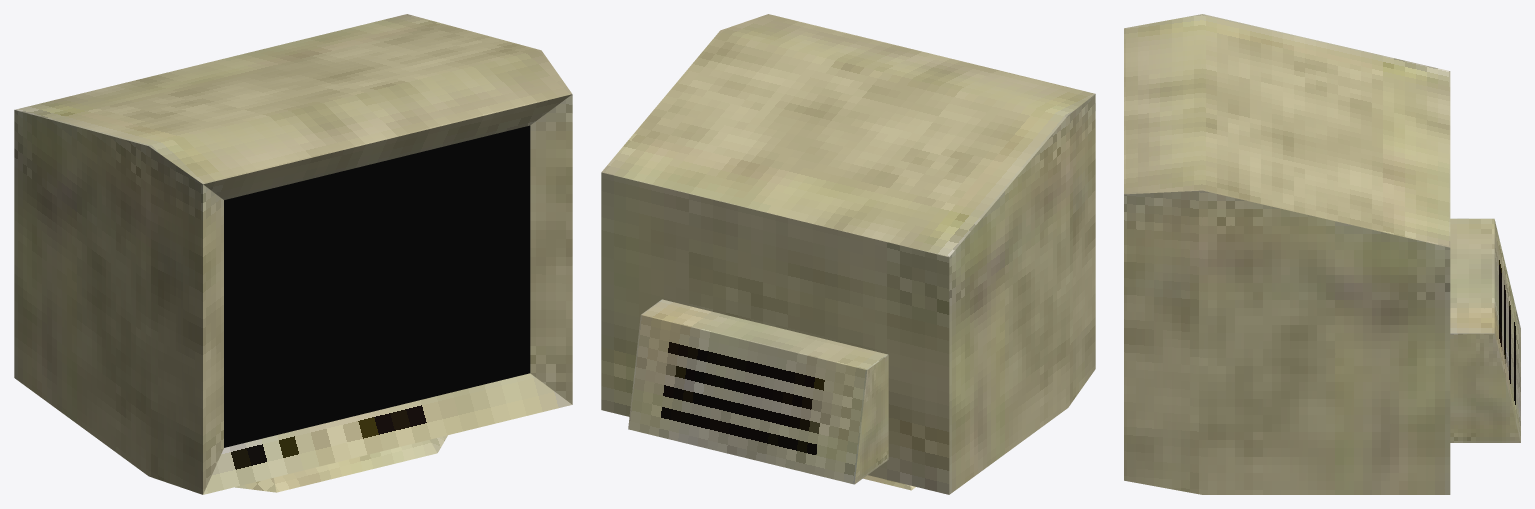
The model's file is PCMonitor.glb.
The picture shows the model from 3 angles, left to right: view 1: azimuth 30°, elevation 25°; view 2: azimuth 150°, elevation 25°; view 3: azimuth 270°, elevation 25°; orthographic projection. The views are drawn at different scales.
Visible parts, largest first — view 1: PC.002; view 2: PC.002; view 3: PC.002.
Boxes of the visible parts, x1,y1,x2,y2 form: PC.002: (14,14,572,494); PC.002: (601,14,1095,494); PC.002: (1124,14,1520,494).
Size of the model in its own units: 0.5425 by 0.483 by 0.5149.
2 materials, 1 textured.
